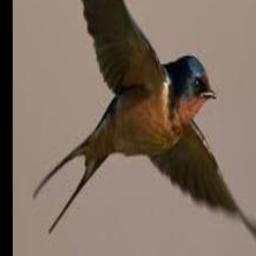Swallow: (33, 0, 256, 256)
